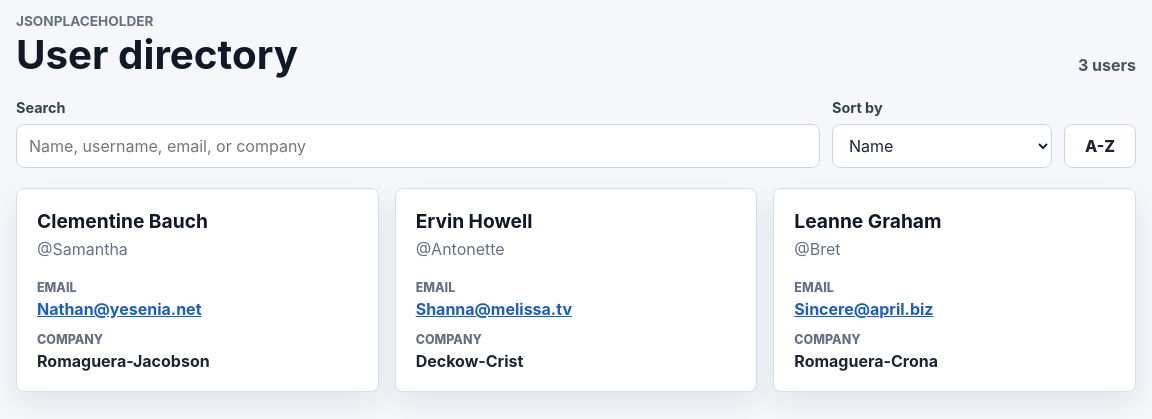
Test: UserDirectory › renders an empty state when no users match search
Expected: the heading "Leanne Graham" is shown, [794,209,942,233]
Type "nope" into the search field labelled "Search".
click(418, 146); type("nope")  # box [16,124,820,168]
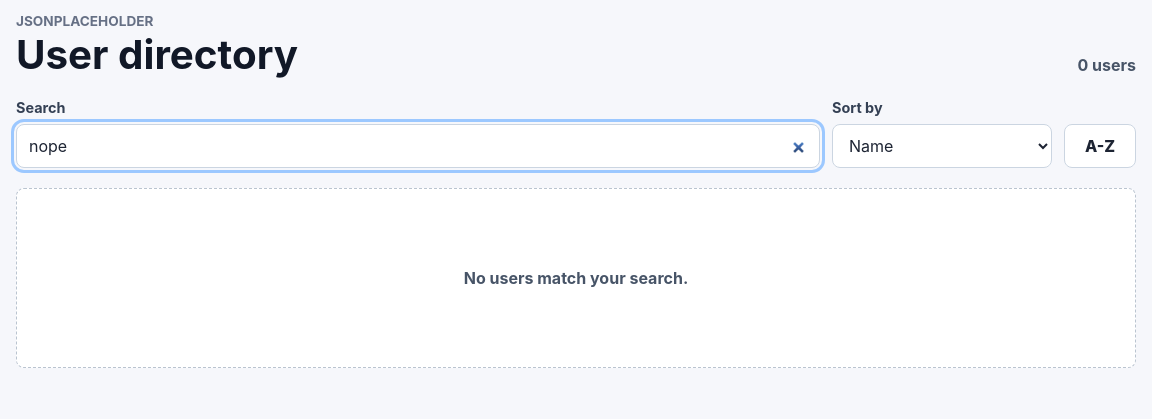
Expected: the text "No users match your search." is shown, [16,188,1136,368]
